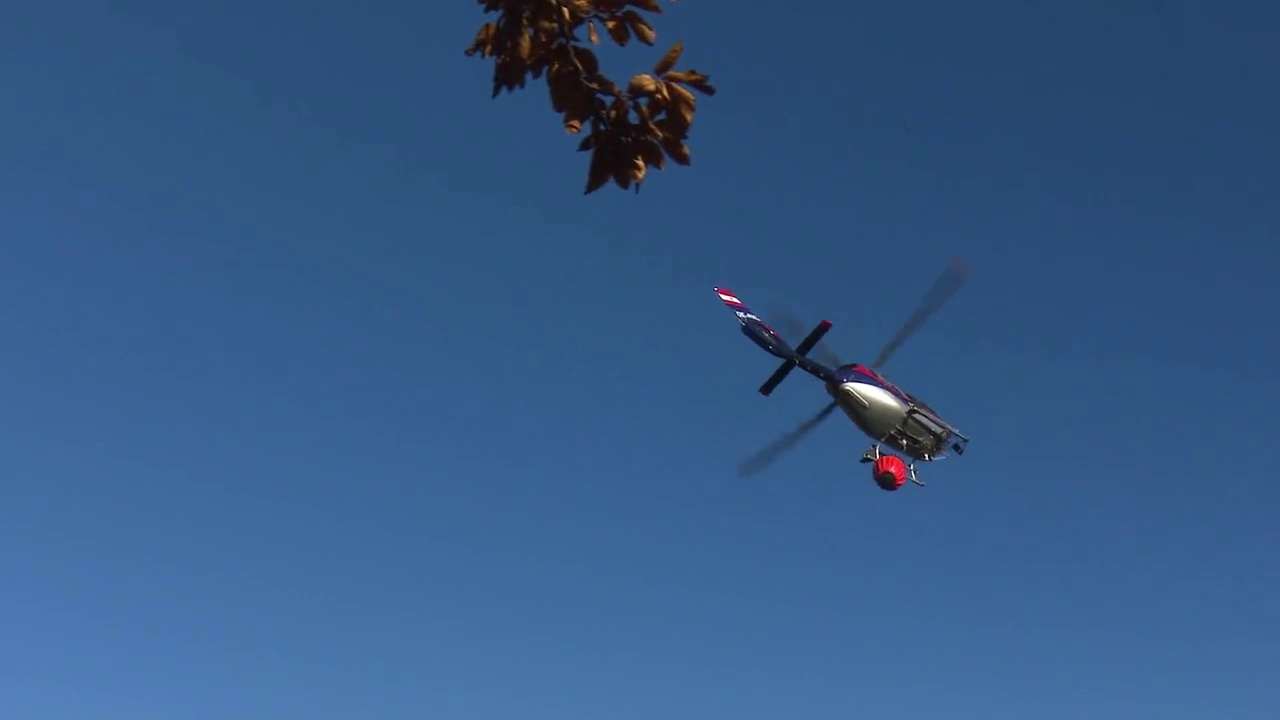heli: (715, 258, 968, 488)
